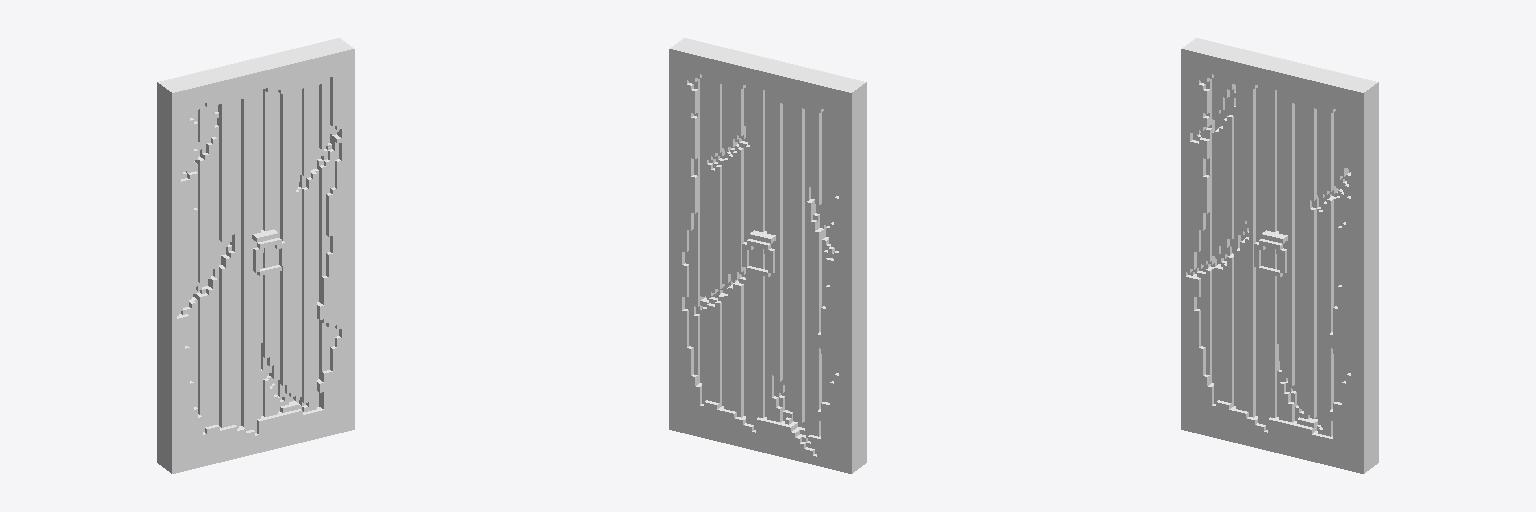
Rendered from puerta_roja.obj.
3 renders of one model, left to right at view 1: azimuth 30°, elevation 25°; view 2: azimuth 150°, elevation 25°; view 3: azimuth 330°, elevation 25°, orthographic.
Parts seen in each view (by area): view 1: object 1; view 2: object 1; view 3: object 1.
Boxes of the visible parts, box(x1,y1,x2,y2) form: object 1: box(157, 38, 354, 473); object 1: box(669, 38, 866, 473); object 1: box(1181, 38, 1378, 473).
Bounding box in the file's own units: 4.2 × 8.4 × 1.